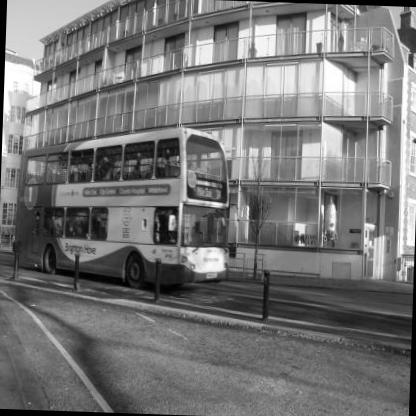bus: (9, 122, 242, 297)
